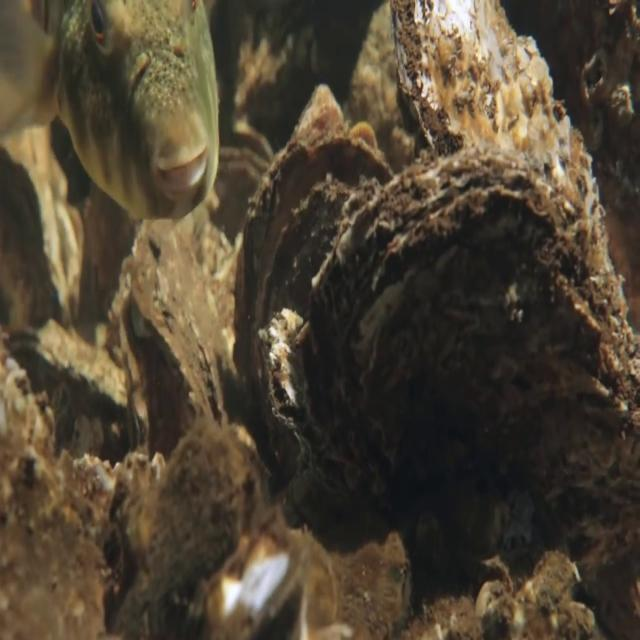Oyster-Closed: (384, 0, 622, 270), (132, 269, 233, 450), (6, 322, 142, 431), (3, 144, 76, 320)
Oyster-Indeterminate: (299, 143, 631, 548), (230, 124, 402, 549)
